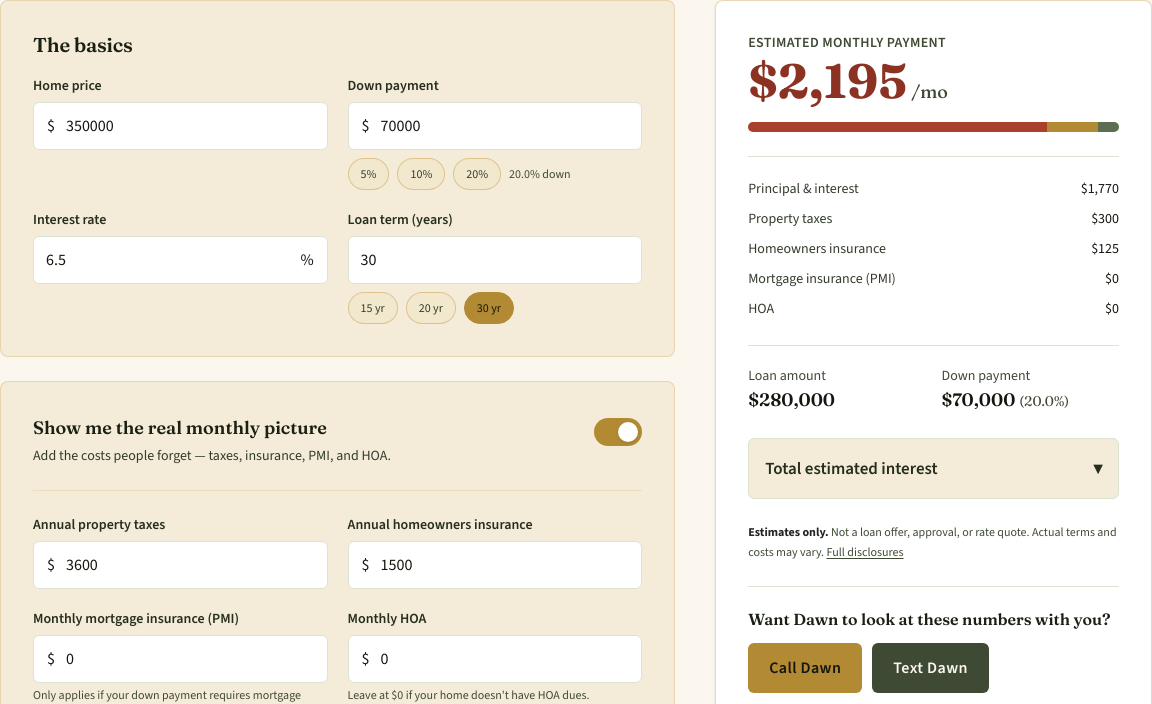
HomePaymentCalculator › toggling off 'the real monthly picture' hides the extra costs and shrinks the total to P&I only, and toggling back on restores the entered values
Click the switch labelled "Show me the real monthly picture" at (180, 428), box x1=33 y1=414 x2=642 y2=466
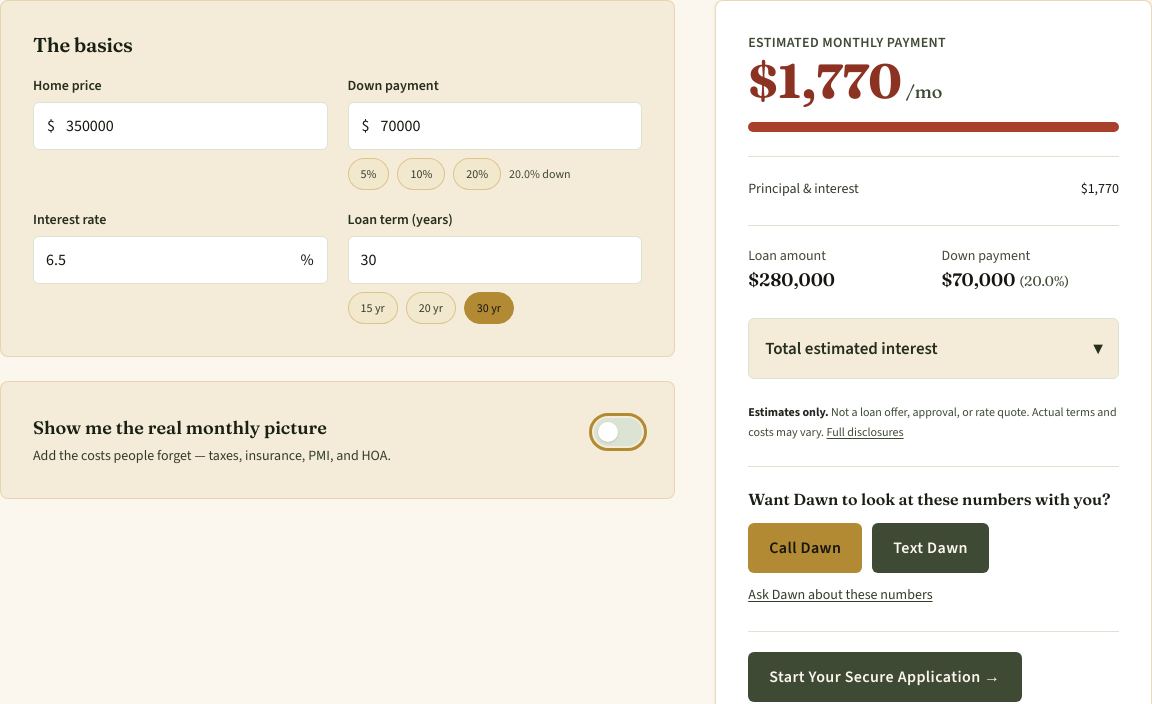
Check: the text "property taxes" is gone
Click the switch labelled "Show me the real monthly picture" at (180, 428), box x1=33 y1=414 x2=642 y2=466
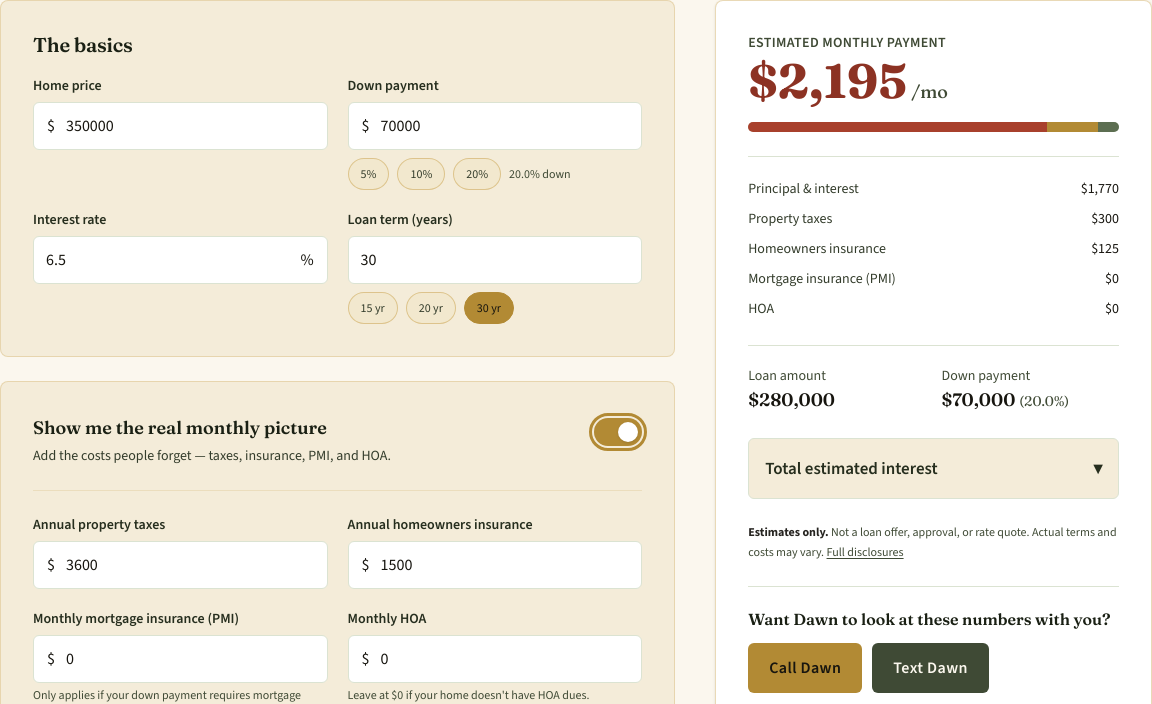
Check: the text "Property taxes" is shown, box x1=748 y1=209 x2=832 y2=229
